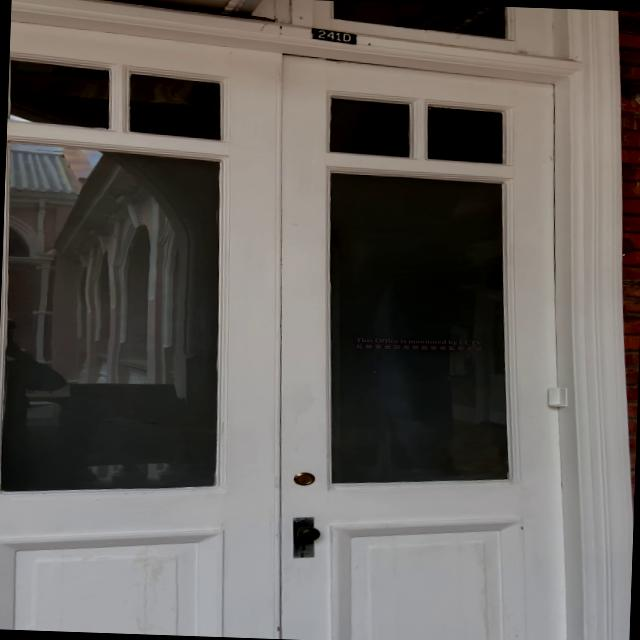room241d: (303, 24, 362, 48)
